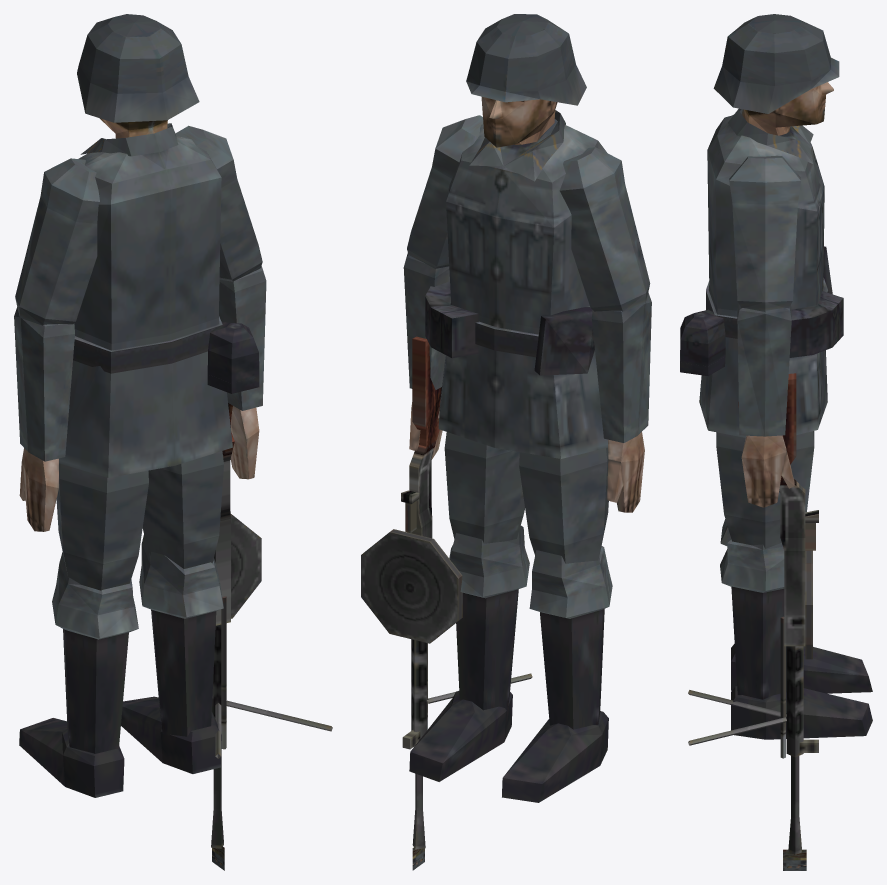
The model's file is vc_lmg.glb.
The picture shows the model from 3 angles, left to right: view 1: azimuth 30°, elevation 25°; view 2: azimuth 150°, elevation 25°; view 3: azimuth 270°, elevation 25°; orthographic projection. The views are drawn at different scales.
Parts seen in each view (by area): view 1: torso, rleg, head, lleg, luparm, lloarm, lthigh, gun, rthigh, rloarm, lfoot, ruparm (+1 smaller); view 2: torso, gun, head, lleg, rleg, luparm, lloarm, lthigh, rthigh, lfoot, rfoot, ruparm (+1 smaller); view 3: torso, head, gun, rloarm, ruparm, rleg, rthigh, rfoot, lfoot, flare.
Boxes of the visible parts, left/top/right/bottom form: torso: left=59, top=123, right=259, bottom=477; rleg: left=139, top=534, right=223, bottom=736; head: left=77, top=14, right=199, bottom=138; lleg: left=52, top=552, right=138, bottom=753; luparm: left=15, top=158, right=99, bottom=325; lloarm: left=14, top=307, right=74, bottom=531; lthigh: left=56, top=463, right=148, bottom=590; gun: left=211, top=403, right=332, bottom=848; rthigh: left=142, top=451, right=223, bottom=568; rloarm: left=219, top=266, right=266, bottom=479; lfoot: left=19, top=718, right=124, bottom=797; ruparm: left=175, top=125, right=262, bottom=281; torso: left=425, top=110, right=607, bottom=458; gun: left=361, top=336, right=532, bottom=849; head: left=466, top=14, right=586, bottom=147; lleg: left=529, top=546, right=612, bottom=729; rleg: left=449, top=525, right=529, bottom=711; luparm: left=559, top=147, right=650, bottom=311; lloarm: left=592, top=292, right=651, bottom=512; lthigh: left=519, top=447, right=608, bottom=563; rthigh: left=444, top=432, right=524, bottom=543; lfoot: left=502, top=711, right=608, bottom=802; rfoot: left=409, top=691, right=512, bottom=781; ruparm: left=407, top=115, right=483, bottom=268; torso: left=680, top=108, right=843, bottom=437; head: left=713, top=14, right=839, bottom=135; gun: left=688, top=373, right=818, bottom=854; rloarm: left=737, top=304, right=794, bottom=507; ruparm: left=729, top=155, right=800, bottom=311; rleg: left=720, top=529, right=786, bottom=699; rthigh: left=716, top=431, right=814, bottom=548; rfoot: left=731, top=686, right=872, bottom=739; lfoot: left=731, top=644, right=872, bottom=693; flare: left=783, top=849, right=806, bottom=870.
Size of the model in its own units: 0.5886 by 1.8 by 0.3895.
1 material, 1 textured.
